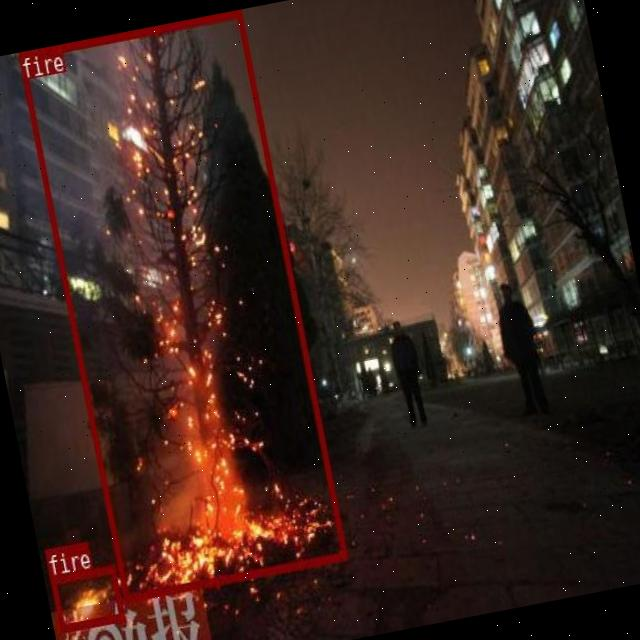fire: (18, 10, 348, 602), (50, 565, 124, 631)
